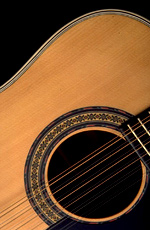guitar: (1, 7, 150, 230)
